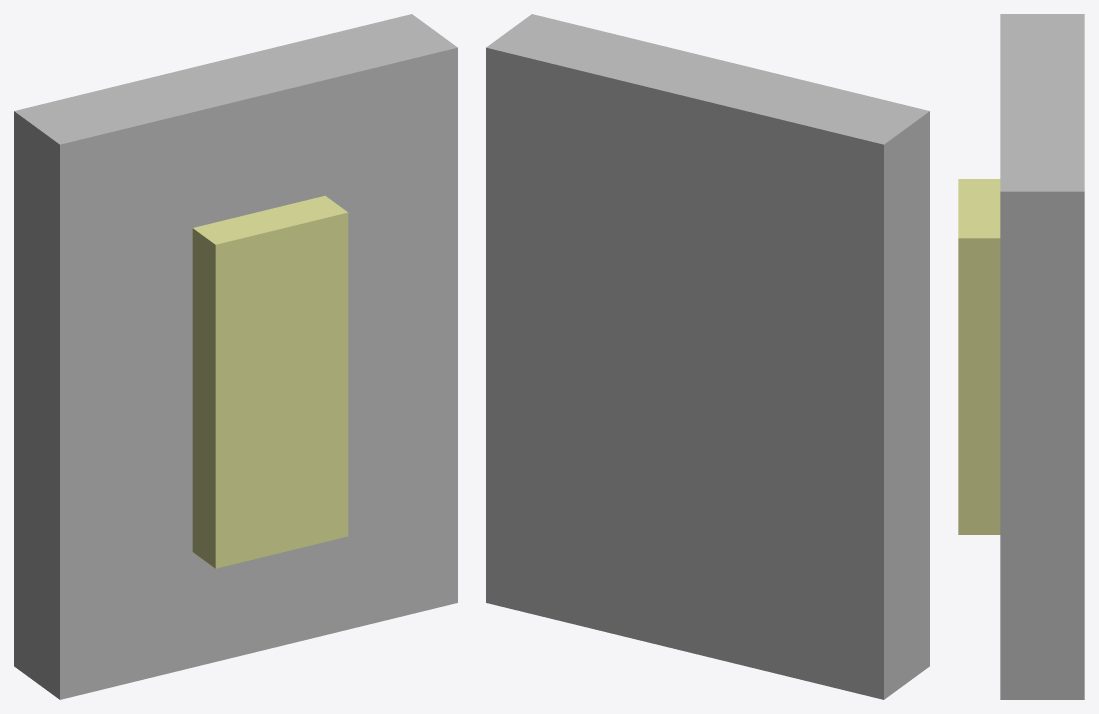
The model's file is lightSwitch.fbx.
The picture shows the model from 3 angles, left to right: view 1: azimuth 30°, elevation 25°; view 2: azimuth 150°, elevation 25°; view 3: azimuth 270°, elevation 25°; orthographic projection. The views are drawn at different scales.
Parts seen in each view (by area): view 1: lightSwitch; view 2: lightSwitch; view 3: lightSwitch.
Part boxes in pixels (x1=…): lightSwitch: x1=14, y1=14, x2=457, y2=699; lightSwitch: x1=486, y1=14, x2=929, y2=699; lightSwitch: x1=958, y1=14, x2=1084, y2=699.
Size of the model in its own units: 3000 by 4000 by 900.
